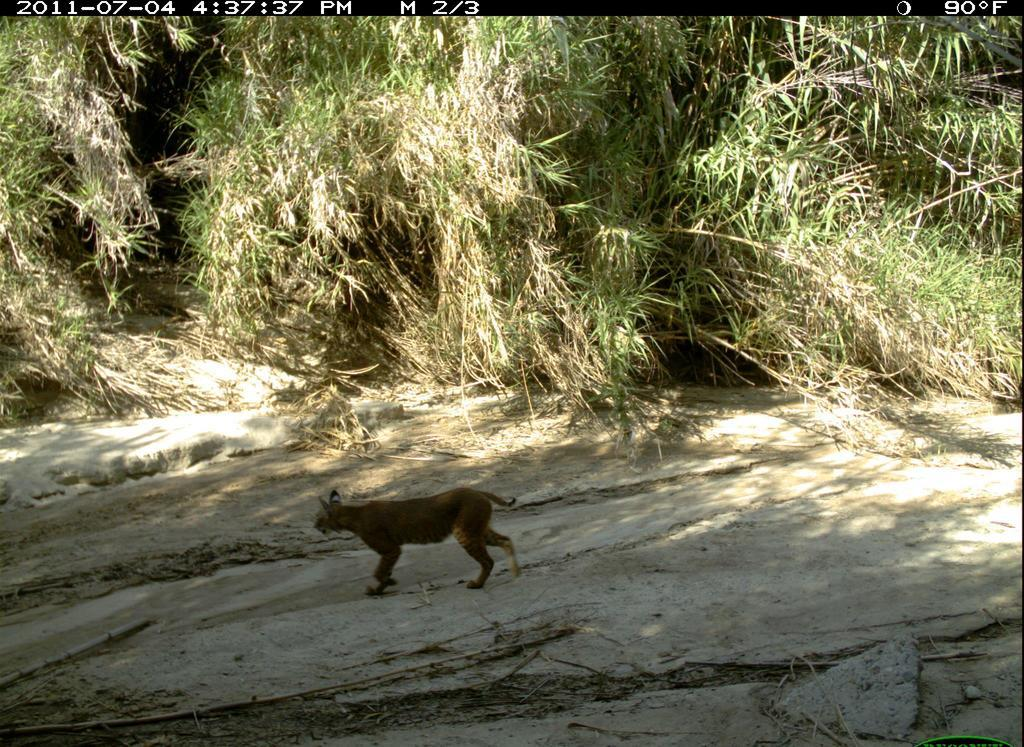bobcat: (301, 473, 538, 606)
